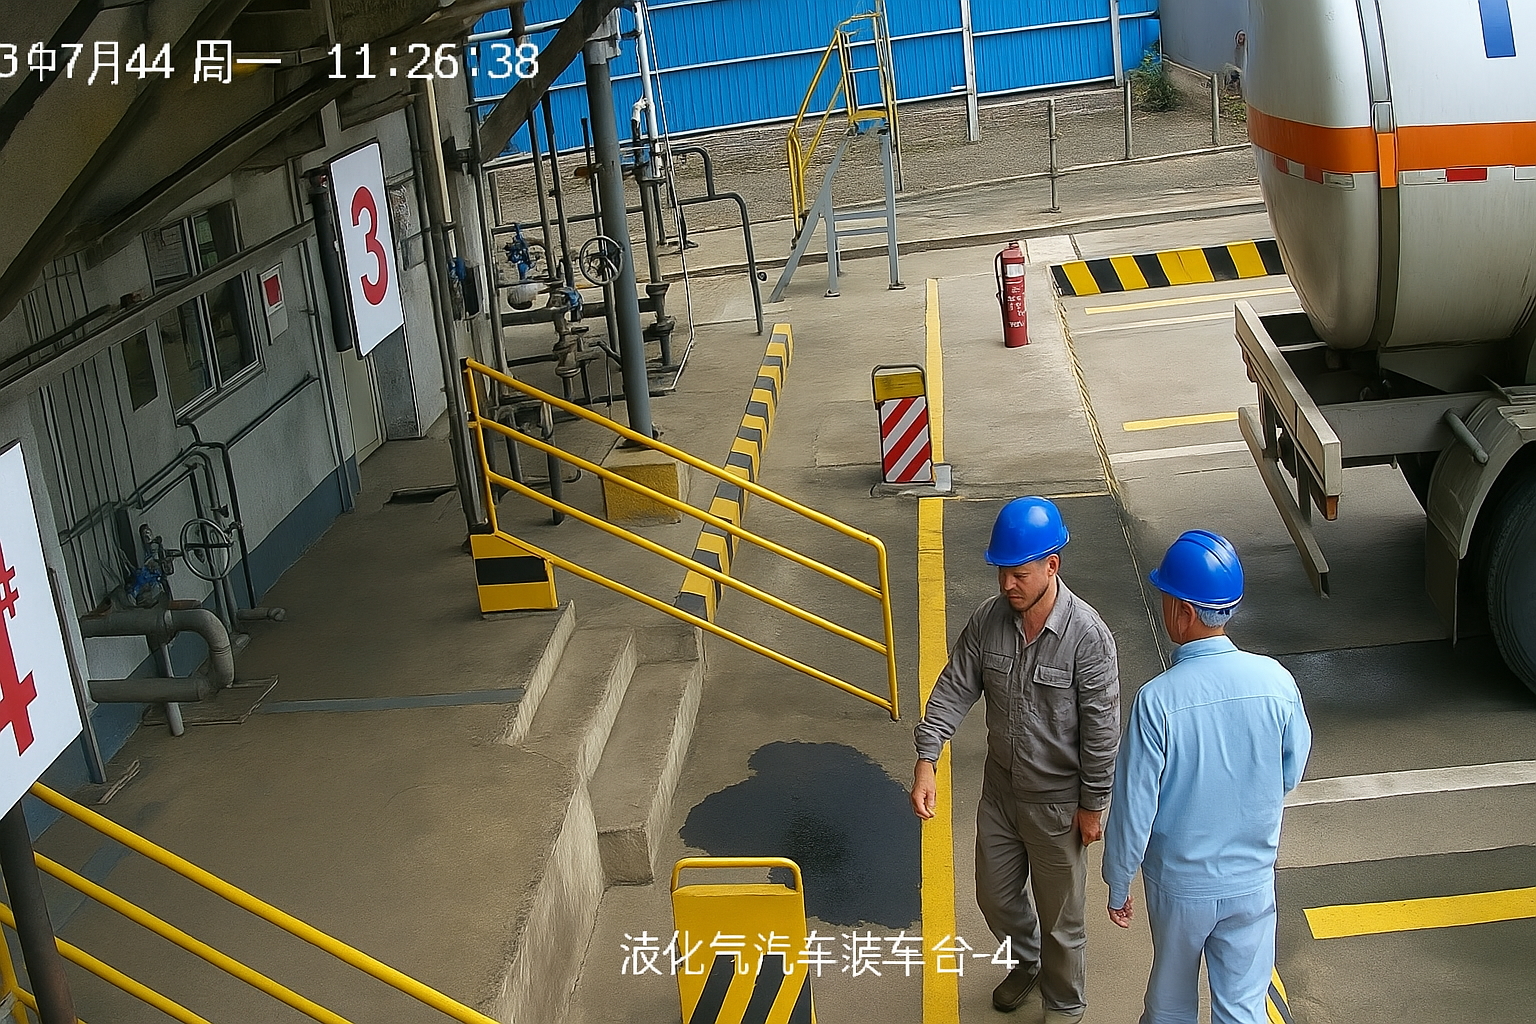safety_cap: (1134, 513, 1251, 633), (968, 485, 1081, 574)
